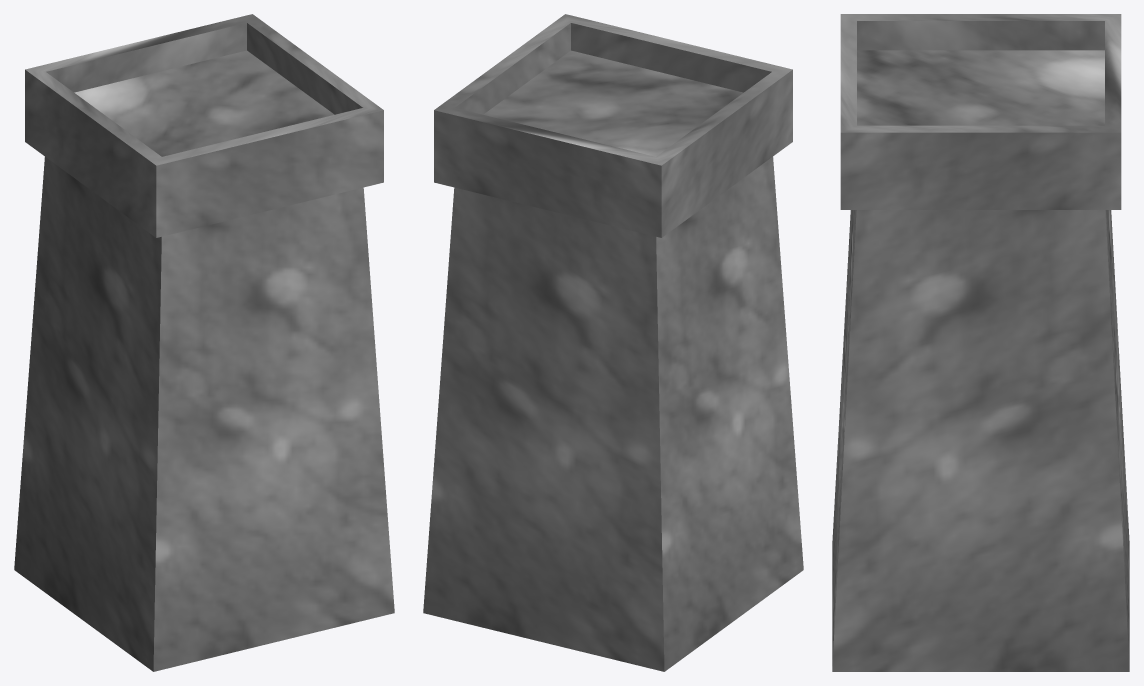
Rendered from wallTower.glb.
3 views of the same model, side by side, from view 1: azimuth 30°, elevation 25°; view 2: azimuth 150°, elevation 25°; view 3: azimuth 270°, elevation 25° (orthographic). The views are drawn at different scales.
Visible parts, largest first — view 1: Wall Bastion.001; view 2: Wall Bastion.001; view 3: Wall Bastion.001.
Part boxes in pixels (x1,y1,x2,y2): Wall Bastion.001: (14,14,394,671); Wall Bastion.001: (423,14,803,671); Wall Bastion.001: (832,14,1129,671).
Size of the model in its own units: 1.42 by 2.82 by 1.42.
1 material, 1 textured.
